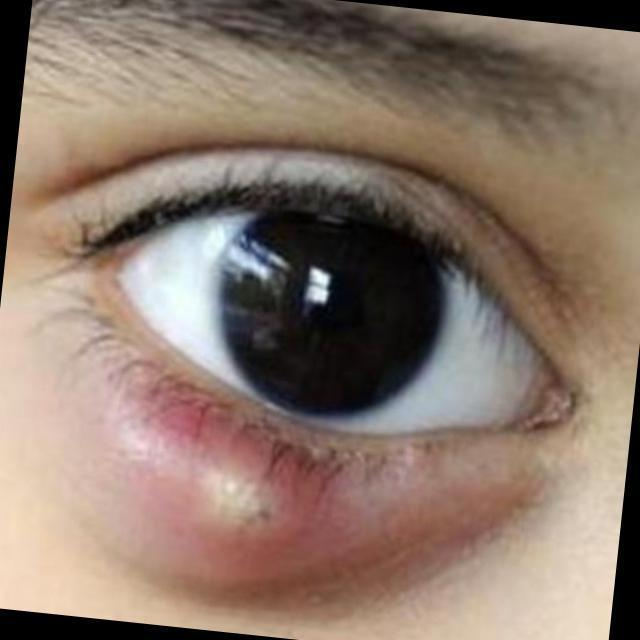Stye: (22, 329, 394, 592)
